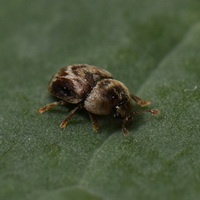insect: (37, 64, 159, 135)
